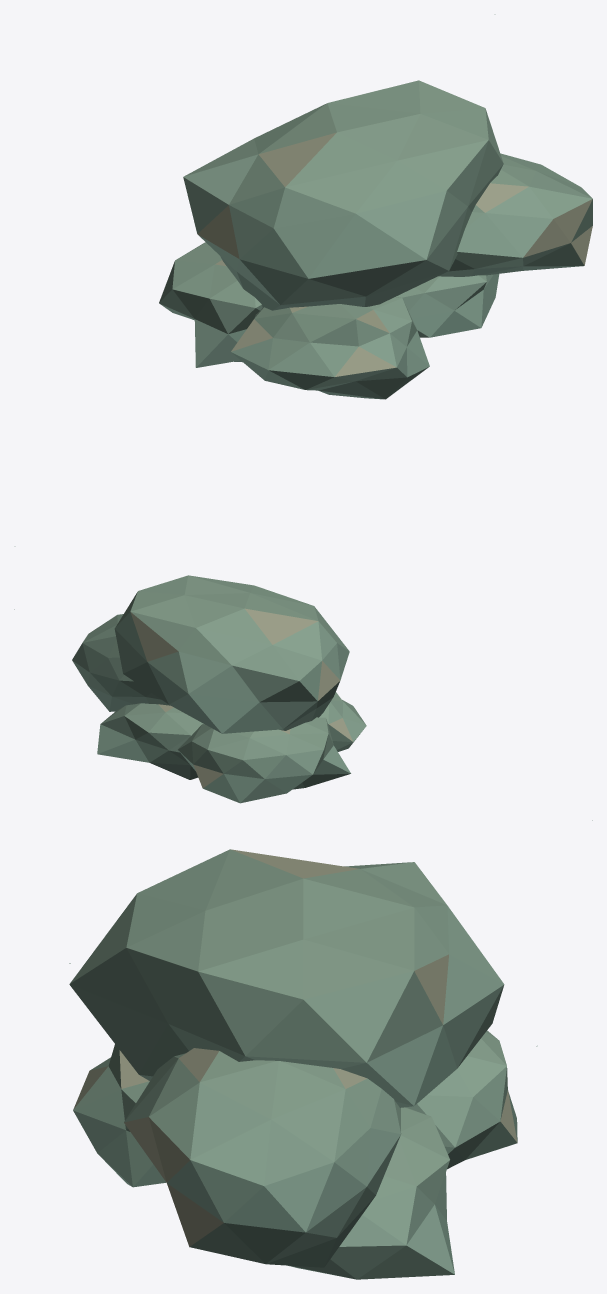
File: Juniper2_leaf.glb
3 renders of one model, top to bottom at view 1: azimuth 30°, elevation 25°; view 2: azimuth 150°, elevation 25°; view 3: azimuth 270°, elevation 25°, orthographic. The views are drawn at different scales.
Parts seen in each view (by area): view 1: Juniper2_leaf; view 2: Juniper2_leaf; view 3: Juniper2_leaf.
Boxes of the visible parts, x1,y1,x2,y2 form: Juniper2_leaf: (14, 14, 592, 546); Juniper2_leaf: (14, 575, 592, 820); Juniper2_leaf: (69, 849, 537, 1279).
Bounding box in the file's own units: 9.28 × 3.53 × 4.07.
